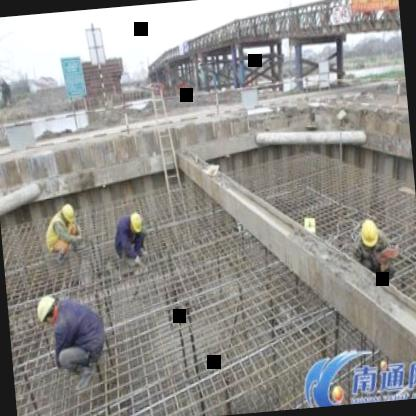helmet: (32, 290, 62, 328), (357, 215, 381, 249), (58, 198, 77, 228), (127, 211, 146, 237)
